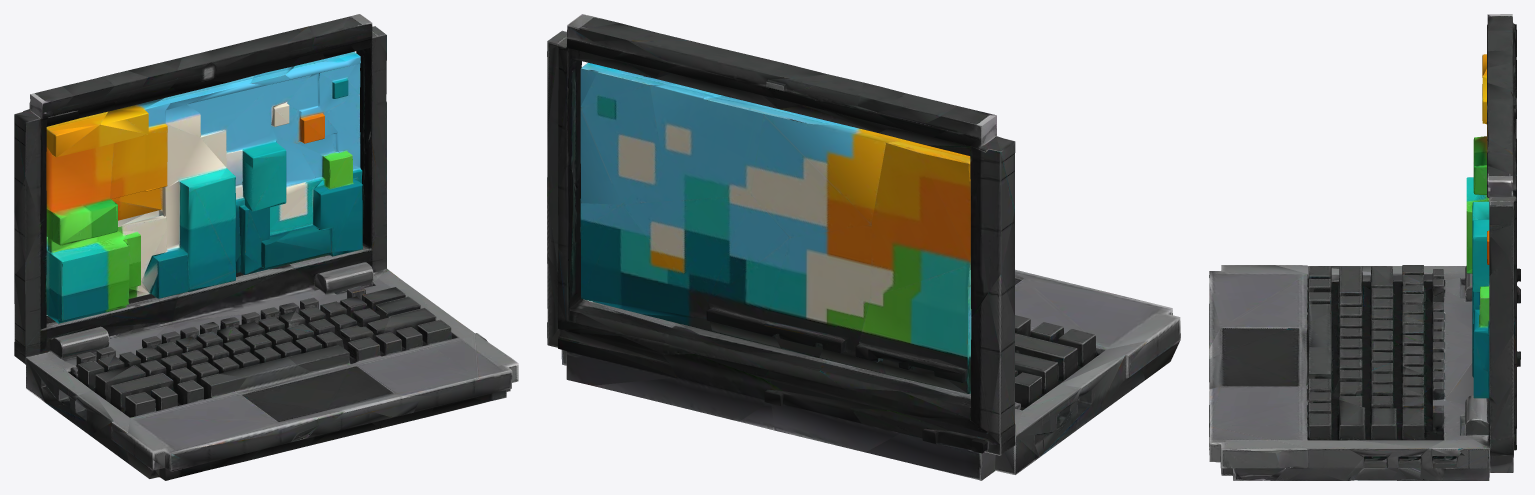
File: laptop.glb
3 views of the same model, side by side, from view 1: azimuth 30°, elevation 25°; view 2: azimuth 150°, elevation 25°; view 3: azimuth 270°, elevation 25° (orthographic). The views are drawn at different scales.
Size of the model in its own units: 2 by 1.48 by 1.43.
1 material, 1 textured.
